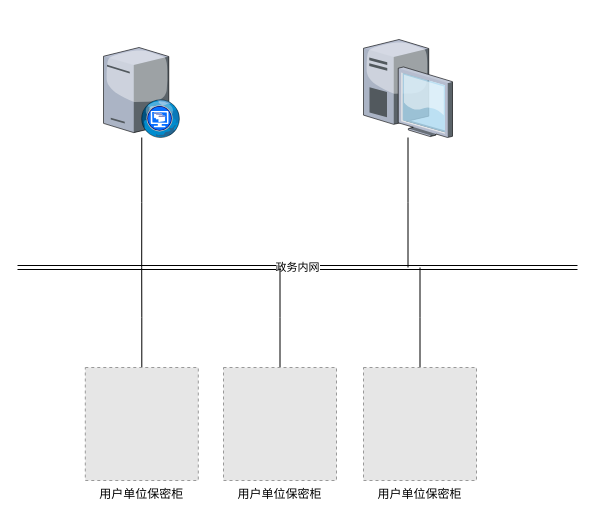
The diagram is 595 pixels wide and 518 high, and some of its shapes have lost their labels. Grey dashed boxes stand in for pictures. The shapes that lost their labels are listed below. From the top down, each one's centre as x and y in pixels, then its label:
the point at 141,92: 安全监管平台服务器
the point at 407,88: 运维终端
